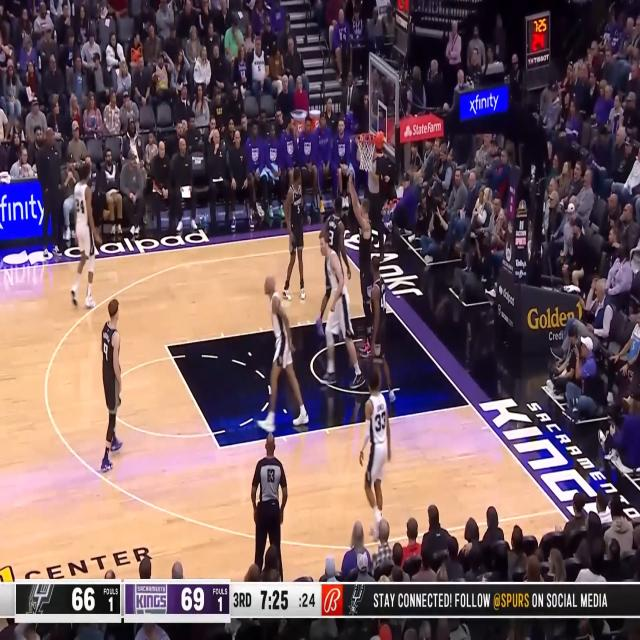Clock: (526, 13, 550, 54), (397, 0, 409, 18)
Hoop: (356, 132, 378, 171)
Overlay: (0, 579, 640, 622)
Player: (256, 274, 309, 433), (317, 231, 366, 391), (359, 364, 391, 540), (315, 194, 352, 340), (347, 170, 376, 356), (70, 161, 104, 311), (368, 258, 397, 408), (100, 298, 124, 472), (283, 165, 307, 301)
Ref: (250, 434, 288, 600), (356, 136, 385, 261)
Scoreboard: (15, 580, 321, 623)
